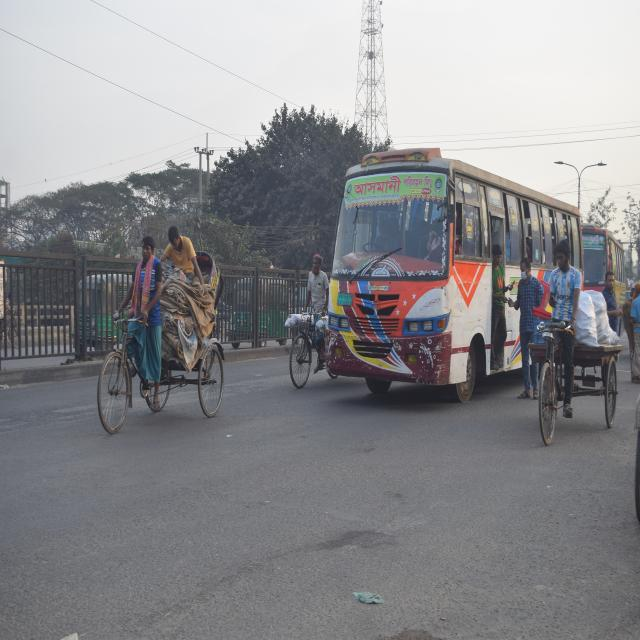bus: (321, 148, 528, 420), (582, 215, 630, 328)
